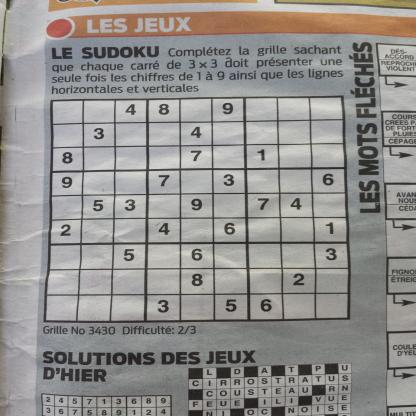sudoku: (40, 92, 354, 325)
